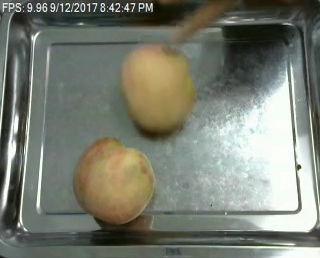Peach: (72, 137, 155, 226), (120, 41, 196, 133)
